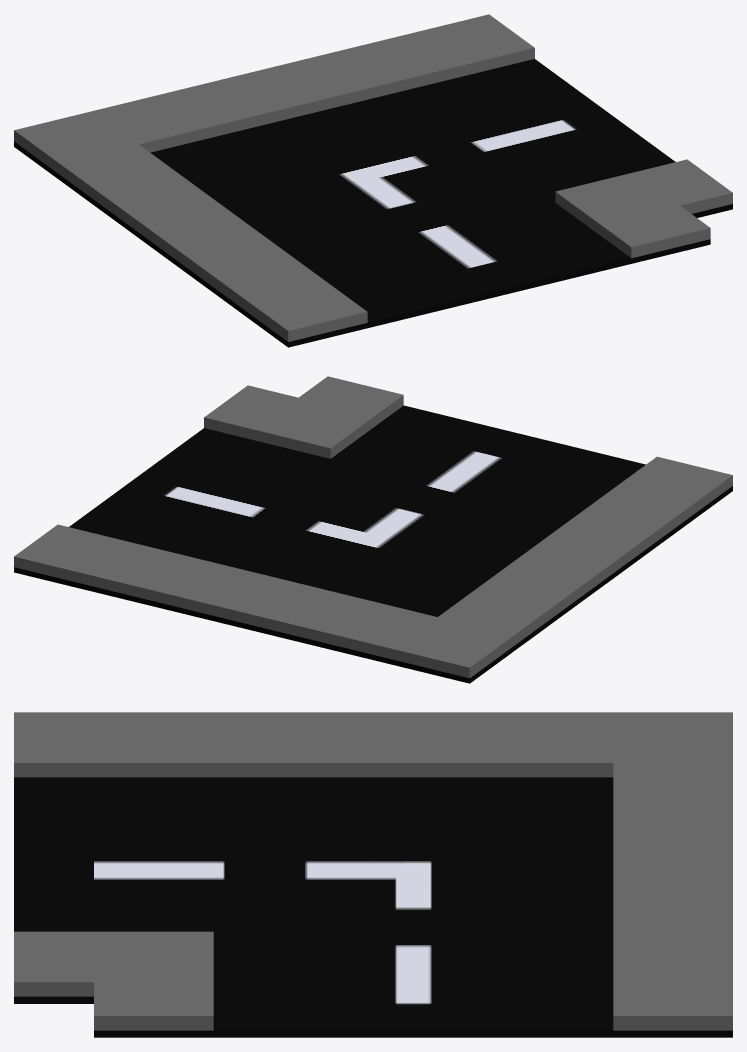
The model's file is bend.gltf.
The picture shows the model from 3 angles, top to bottom: view 1: azimuth 30°, elevation 25°; view 2: azimuth 150°, elevation 25°; view 3: azimuth 270°, elevation 25°; orthographic projection. The views are drawn at different scales.
Parts seen in each view (by area): view 1: Cube.004; view 2: Cube.004; view 3: Cube.004.
Boxes of the visible parts, box(x1,y1,x2,y2) form: Cube.004: box(14, 14, 732, 347); Cube.004: box(14, 376, 732, 683); Cube.004: box(14, 712, 732, 1037).
Bounding box in the file's own units: 18 × 0.6 × 18.
1 material, 1 textured.
